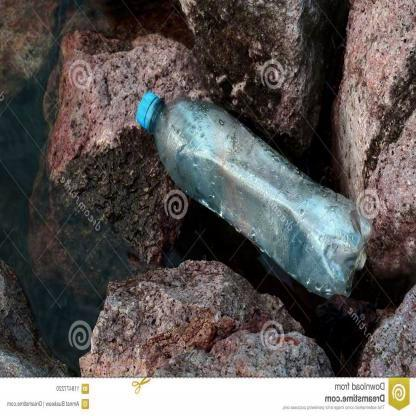Plastic: (134, 87, 374, 304)
